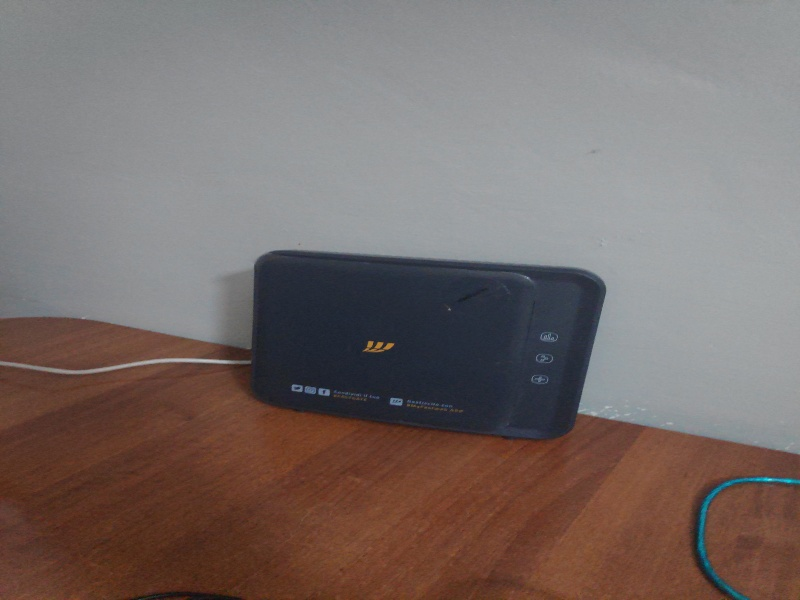router: (251, 246, 610, 447)
